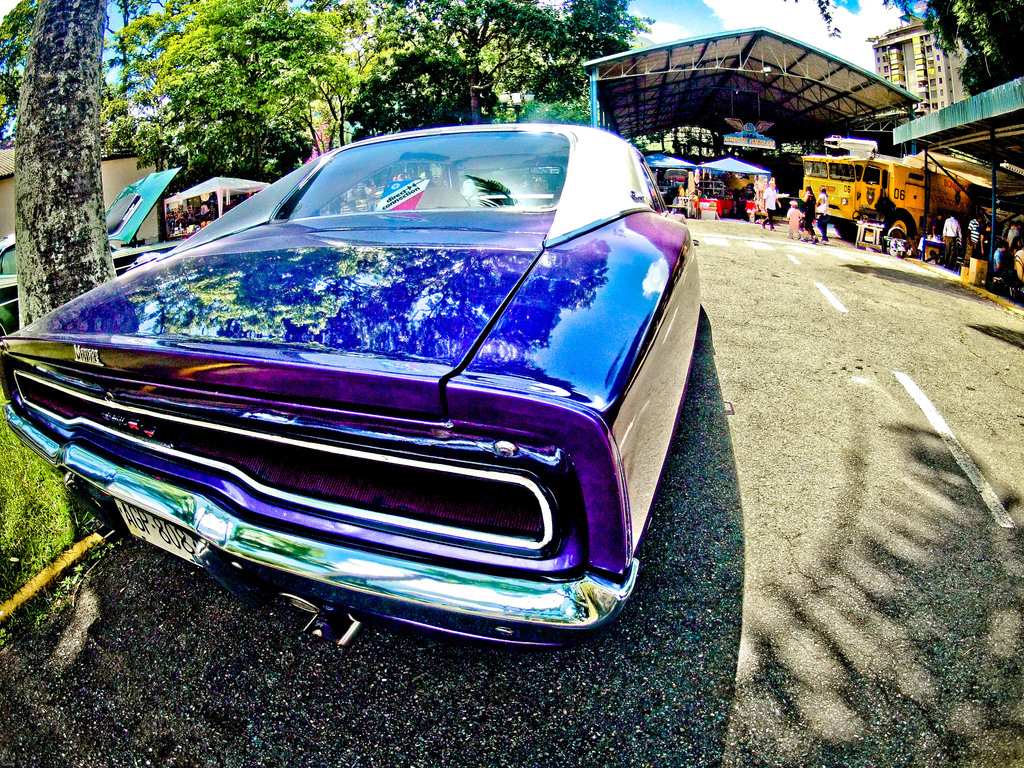Car: (0, 121, 698, 647), (0, 166, 188, 337), (664, 167, 686, 184)
